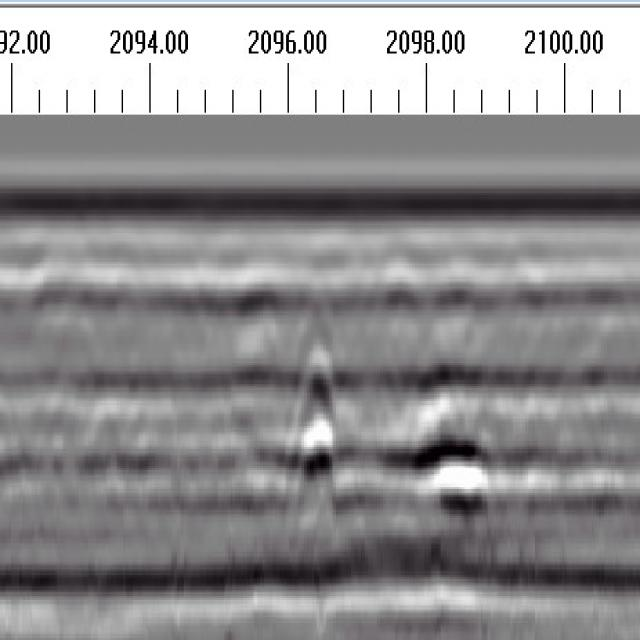loose: (262, 315, 510, 546)
